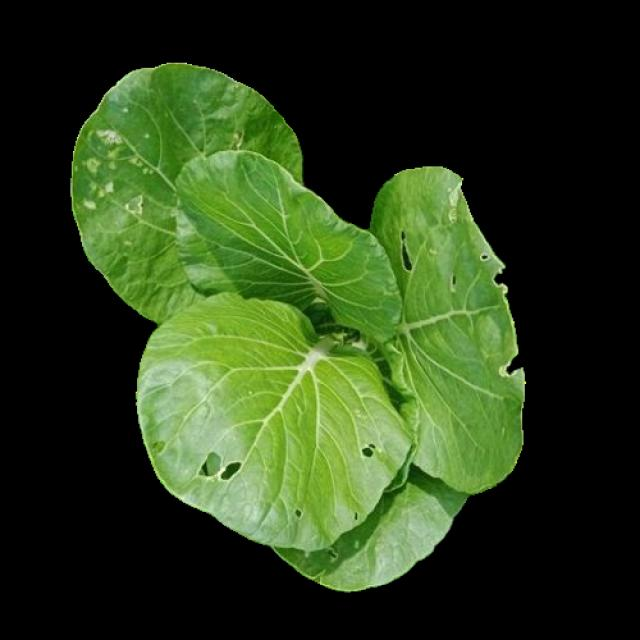mature: (73, 65, 530, 589)
unhealthy: (140, 290, 418, 546), (73, 64, 302, 317), (365, 170, 522, 496), (282, 461, 467, 584)
